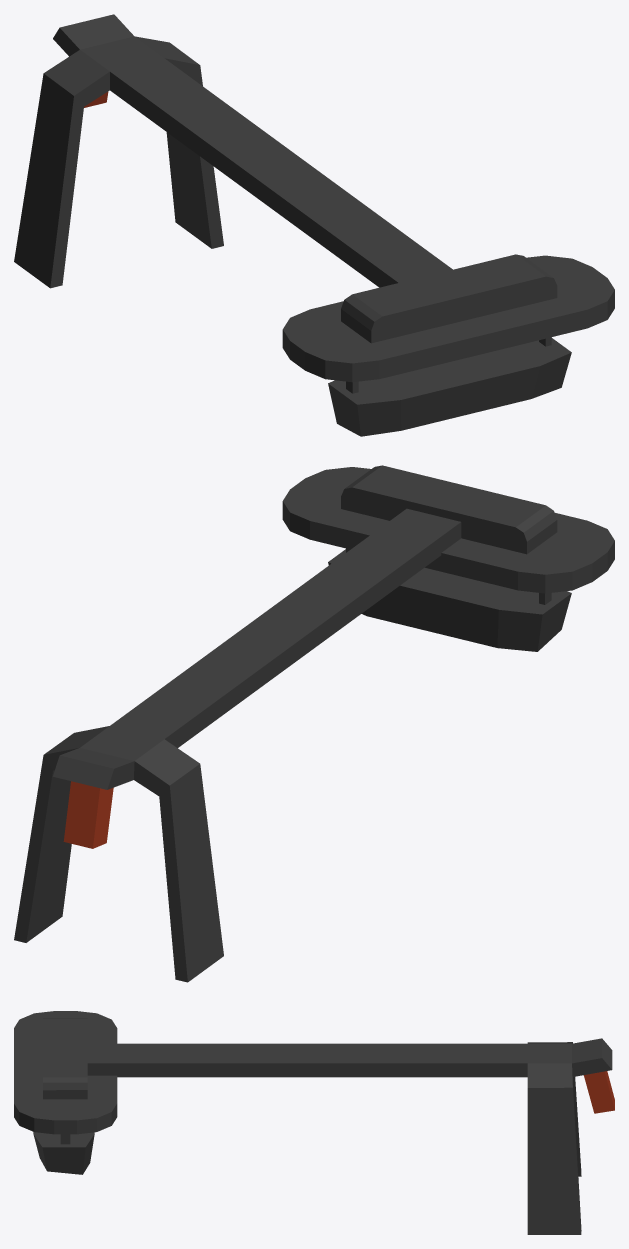
File: Pec_Machine_Ac_2.fbx
3 renders of one model, top to bottom at view 1: azimuth 30°, elevation 25°; view 2: azimuth 150°, elevation 25°; view 3: azimuth 270°, elevation 25°, orthographic. The views are drawn at different scales.
Parts seen in each view (by area): view 1: Pec_Machine_Ac_2; view 2: Pec_Machine_Ac_2; view 3: Pec_Machine_Ac_2.
Part boxes in pixels (left/top/right/bottom): Pec_Machine_Ac_2: left=14, top=14, right=614, bottom=436; Pec_Machine_Ac_2: left=14, top=465, right=614, bottom=982; Pec_Machine_Ac_2: left=14, top=1011, right=614, bottom=1234.
Size of the model in its own units: 35.54 by 23.59 by 82.5.
